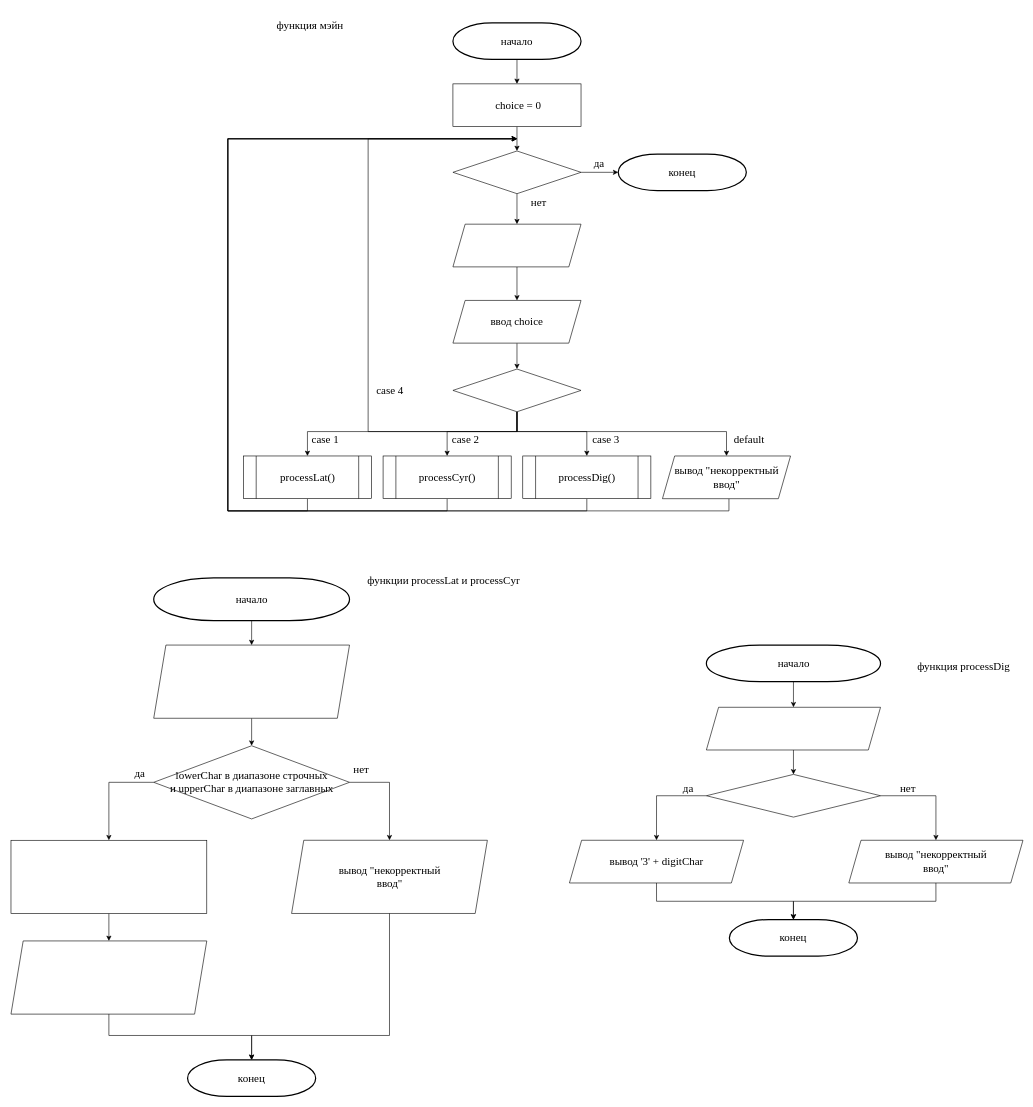
This 1033x1107 diagram has some shape labels left out. Each missing label, with the centre of its shape:
"'0' ≤ digitChar ≤ '9'" goes at point (793, 795).
"choice == 4" goes at point (516, 172).
"difference = lowerChar - upperChar;" goes at point (108, 876).
"switch(choice)" goes at point (516, 390).
"вsвод difference" goes at point (108, 977).
"ввод digitChar" goes at point (793, 728).
"ввод lowerChar и upperChar" goes at point (251, 681).
"вывод меню выбора" goes at point (516, 245).
